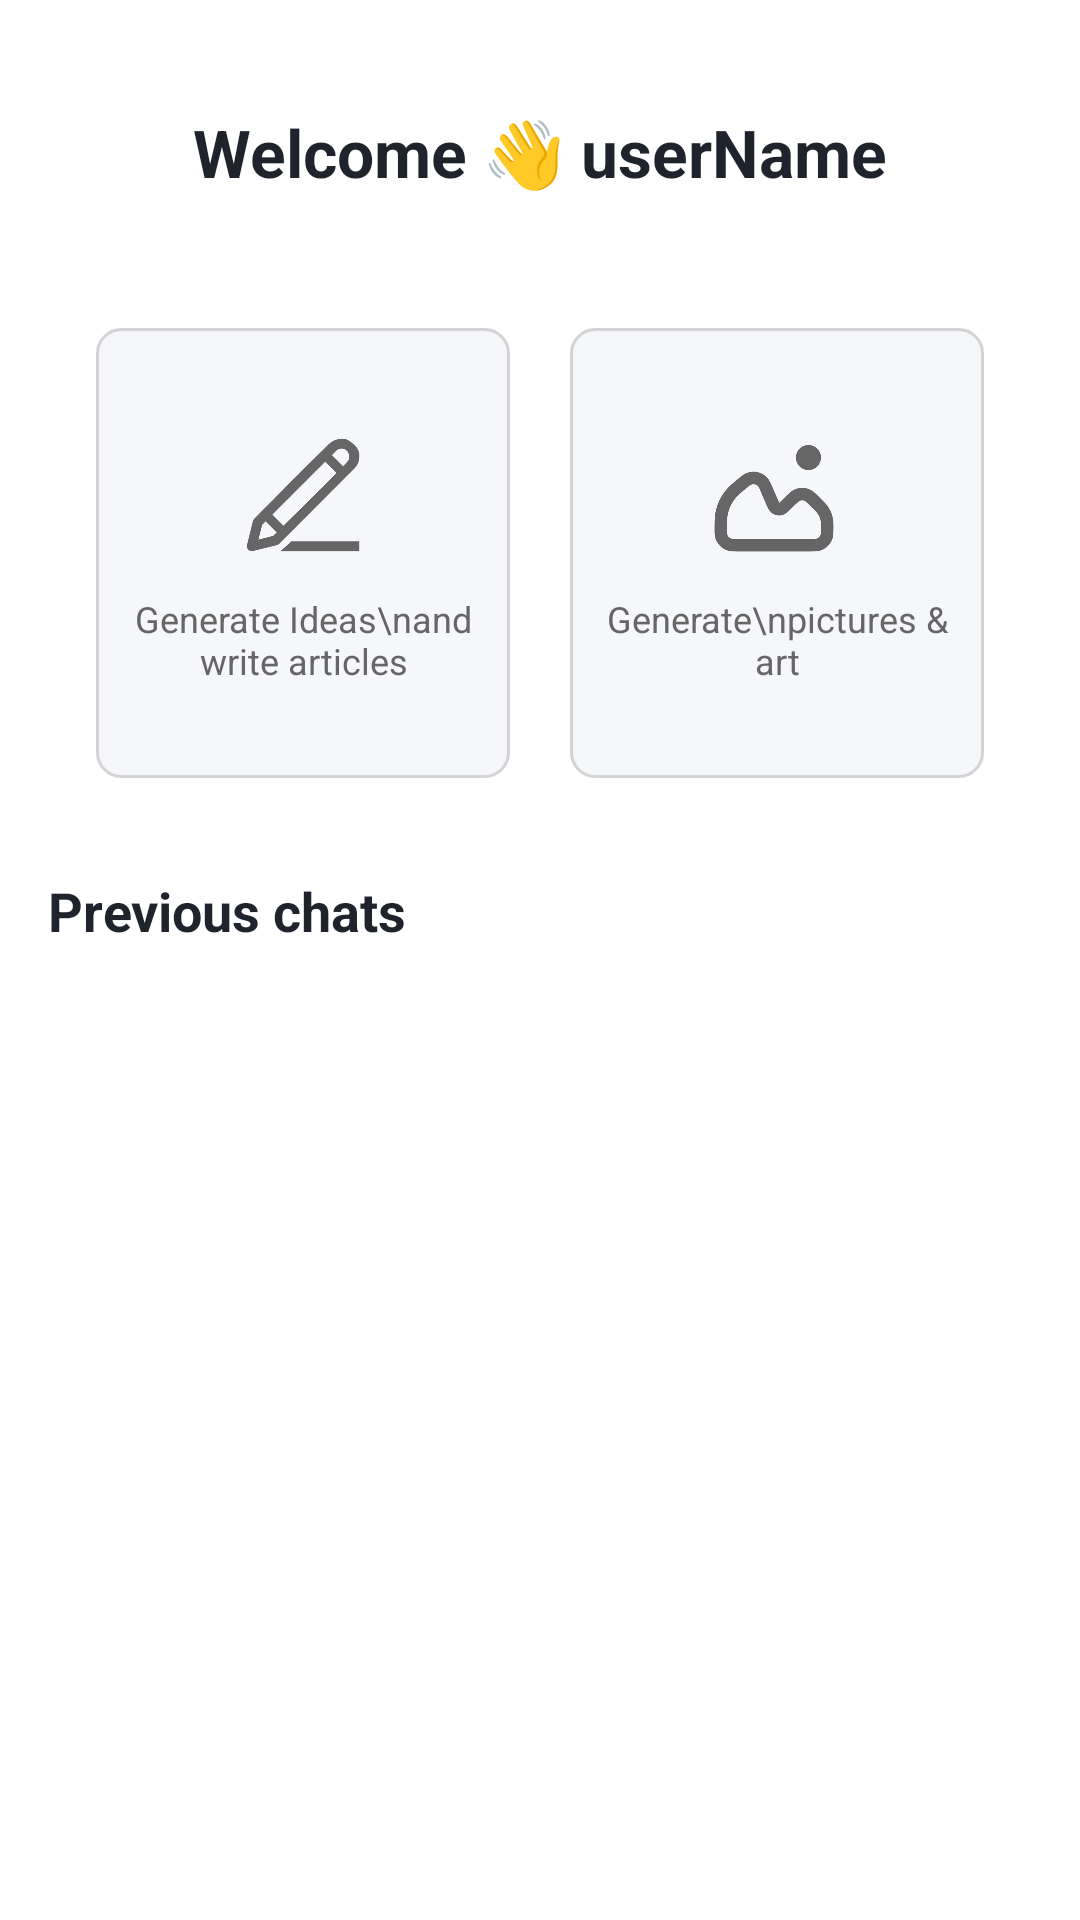

Named icons in this screenshot (1080w x 1920h) and their bounding boxes, detection(x1, y1, x2, y2):
pencil: detection(247, 439, 360, 551)
